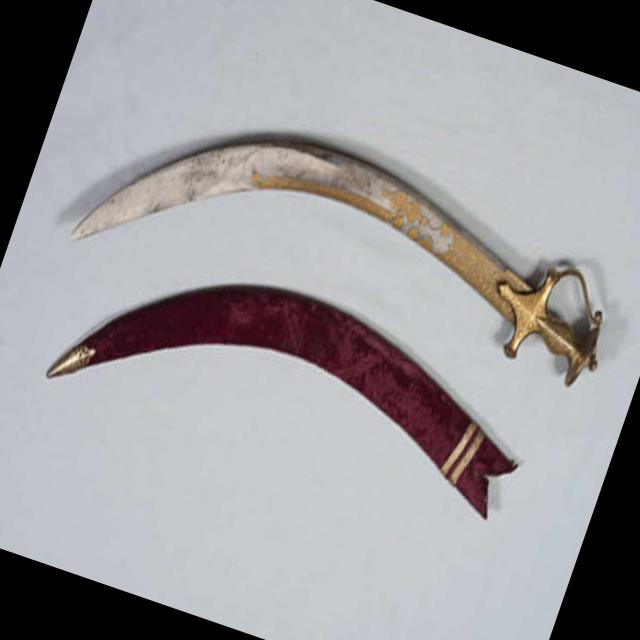Weapon: (54, 72, 636, 420)
